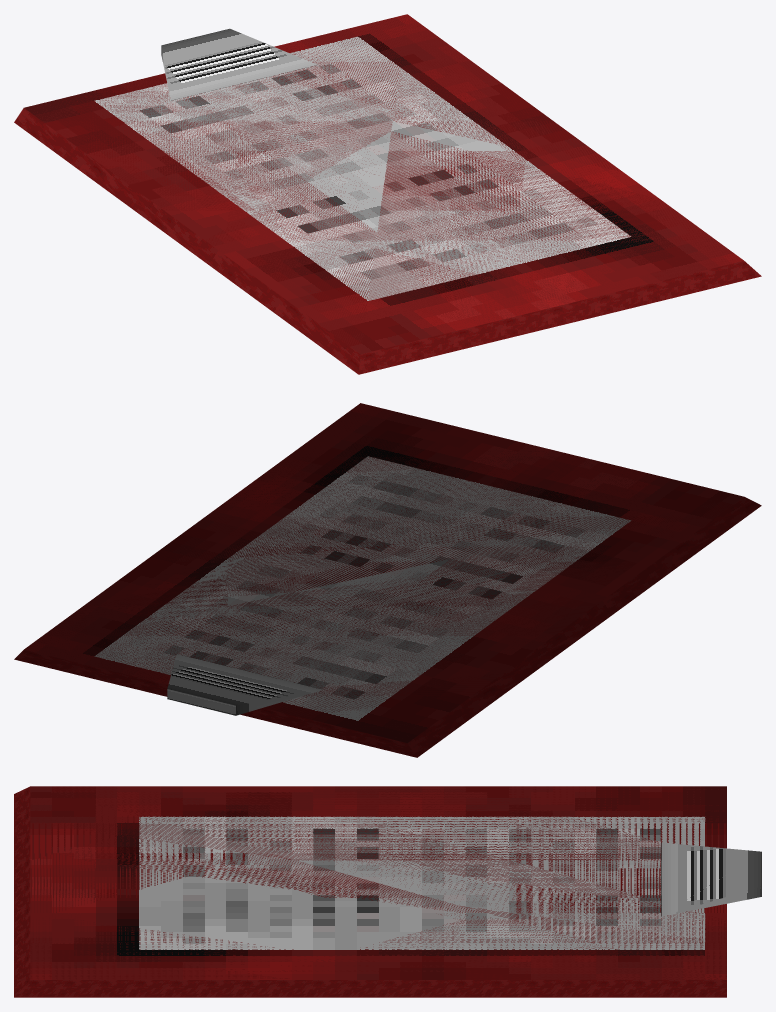
The model's file is PchrclipboardZ.obj.
The picture shows the model from 3 angles, top to bottom: view 1: azimuth 30°, elevation 25°; view 2: azimuth 150°, elevation 25°; view 3: azimuth 270°, elevation 25°; orthographic projection. The views are drawn at different scales.
Bounding box in the file's own units: 206 × 12 × 320.
4 materials, 4 textured.
